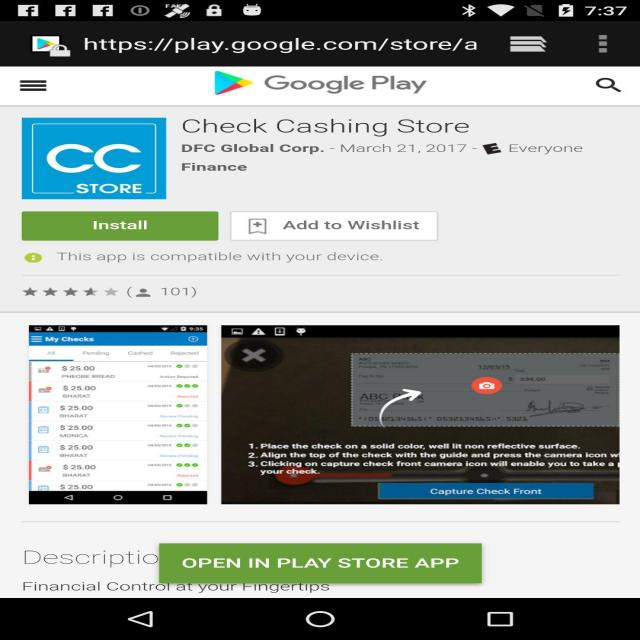button: (143, 528, 538, 594), (32, 208, 497, 246)
icon: (24, 32, 81, 60)
image: (29, 318, 640, 506), (21, 104, 190, 208)
text: (197, 115, 616, 200), (78, 26, 502, 63)
